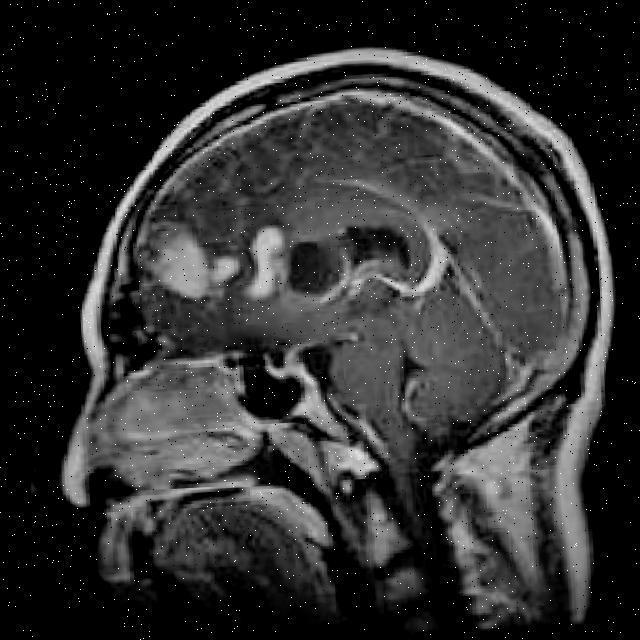MCI: (137, 186, 240, 331), (245, 198, 298, 329)
